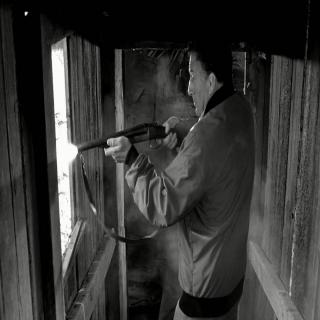gun: (75, 108, 212, 169)
